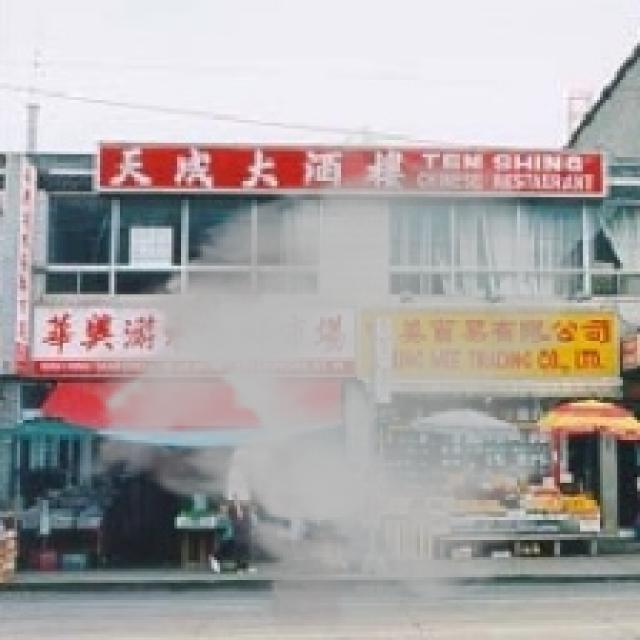Smoke: (66, 122, 594, 638)
